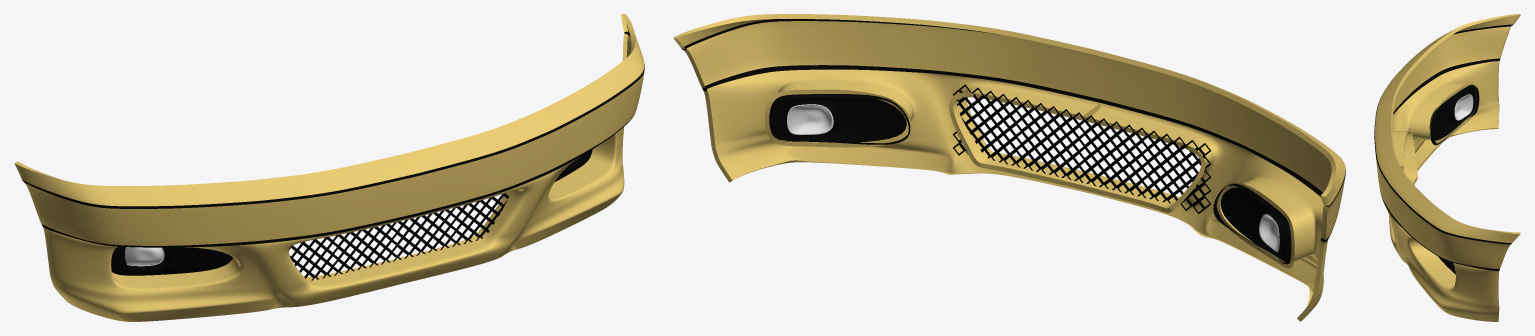
File: Bmw E46 Bumper .fbx
3 renders of one model, left to right at view 1: azimuth 30°, elevation 25°; view 2: azimuth 150°, elevation 25°; view 3: azimuth 270°, elevation 25°, orthographic. The views are drawn at different scales.
Visible parts, largest first — view 1: bumper, grill; view 2: bumper, grill; view 3: bumper.
Boxes of the visible parts, bbox=[...] form: bumper: bbox=[14, 14, 644, 321]; grill: bbox=[289, 193, 509, 280]; bumper: bbox=[673, 14, 1345, 321]; grill: bbox=[953, 84, 1211, 213]; bumper: bbox=[1374, 14, 1520, 321].
Bounding box in the file's own units: 150 × 32.4 × 42.1.
